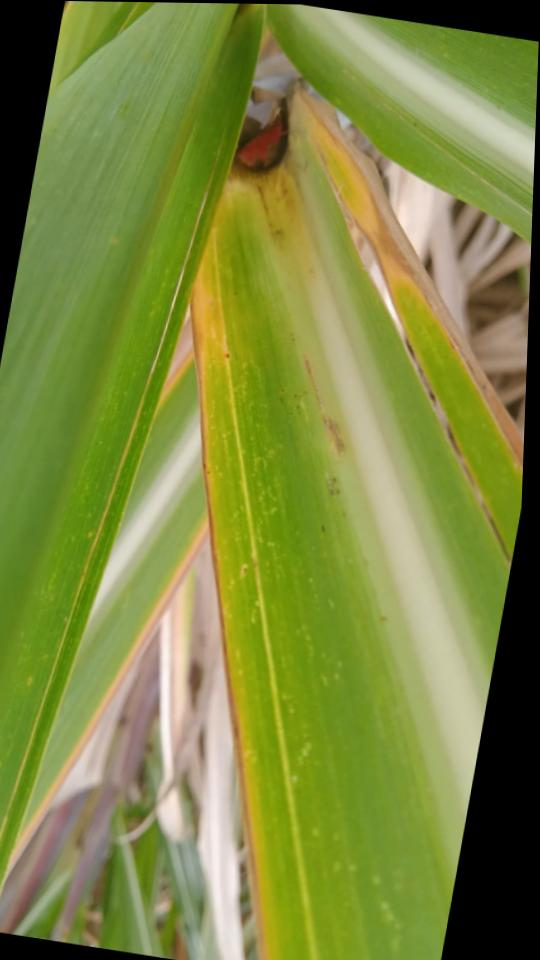Rust: (304, 356, 346, 455), (405, 336, 437, 406), (480, 500, 512, 563), (446, 423, 463, 457), (461, 462, 477, 488), (224, 353, 231, 358)
Yellow: (191, 185, 285, 960), (18, 518, 210, 839), (384, 255, 461, 371), (323, 132, 381, 254), (159, 350, 193, 407)
